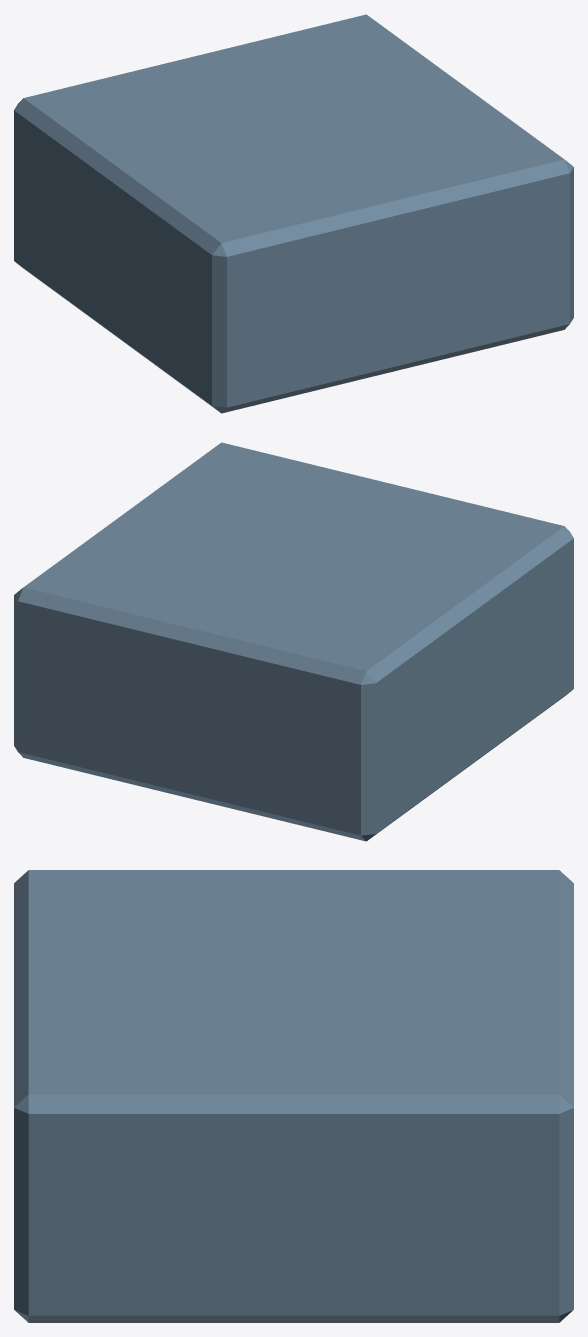
Rendered from coluna_b.glb.
The picture shows the model from 3 angles, top to bottom: view 1: azimuth 30°, elevation 25°; view 2: azimuth 150°, elevation 25°; view 3: azimuth 270°, elevation 25°; orthographic projection. The views are drawn at different scales.
Parts seen in each view (by area): view 1: neve_coluna_b; view 2: neve_coluna_b; view 3: neve_coluna_b.
Part boxes in pixels (box(x1,y1,x2,y2)): neve_coluna_b: box(14, 14, 573, 413); neve_coluna_b: box(14, 442, 573, 841); neve_coluna_b: box(14, 870, 573, 1322).
Bounding box in the file's own units: 1 × 0.45 × 1.
